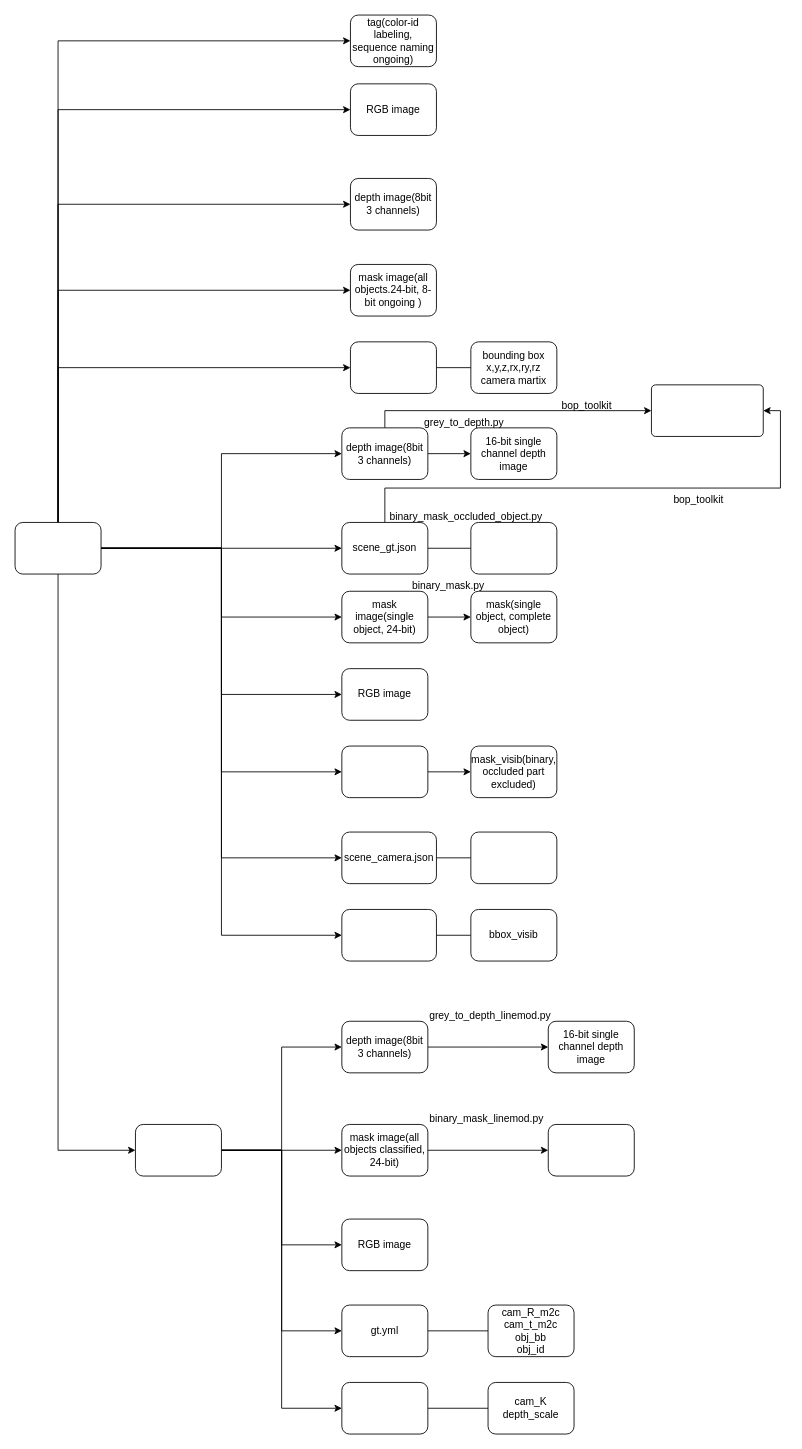
This 802x1449 diagram has some shape labels left out. The centre of each missing label's shape, as x and y in pixels:
"Annotations" belongs at point (393, 367).
"cam_K depth_scale cam_R_w2c cam_t_w2c" belongs at point (513, 857).
"cam_R_m2c cam_t_m2c obj_id" belongs at point (513, 548).
"Generator" belongs at point (57, 548).
"info.yml" belongs at point (384, 1408).
"LINEMOD" belongs at point (178, 1150).
"mask image(all objects classified, 24-bit, binary)" belongs at point (590, 1150).
"mask image(all objects, 24-bit)" belongs at point (384, 771).
"mask mask_visib scene_gt_info.json" belongs at point (707, 410).
"scene_gt_info.json" belongs at point (388, 935).
